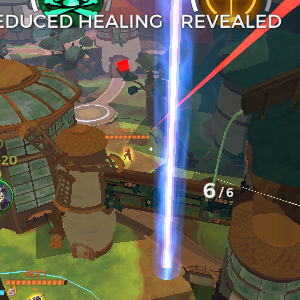model: (124, 144, 132, 161)
